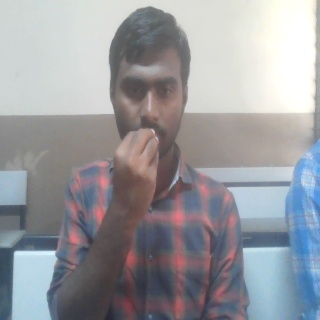Food: (111, 125, 161, 223)
